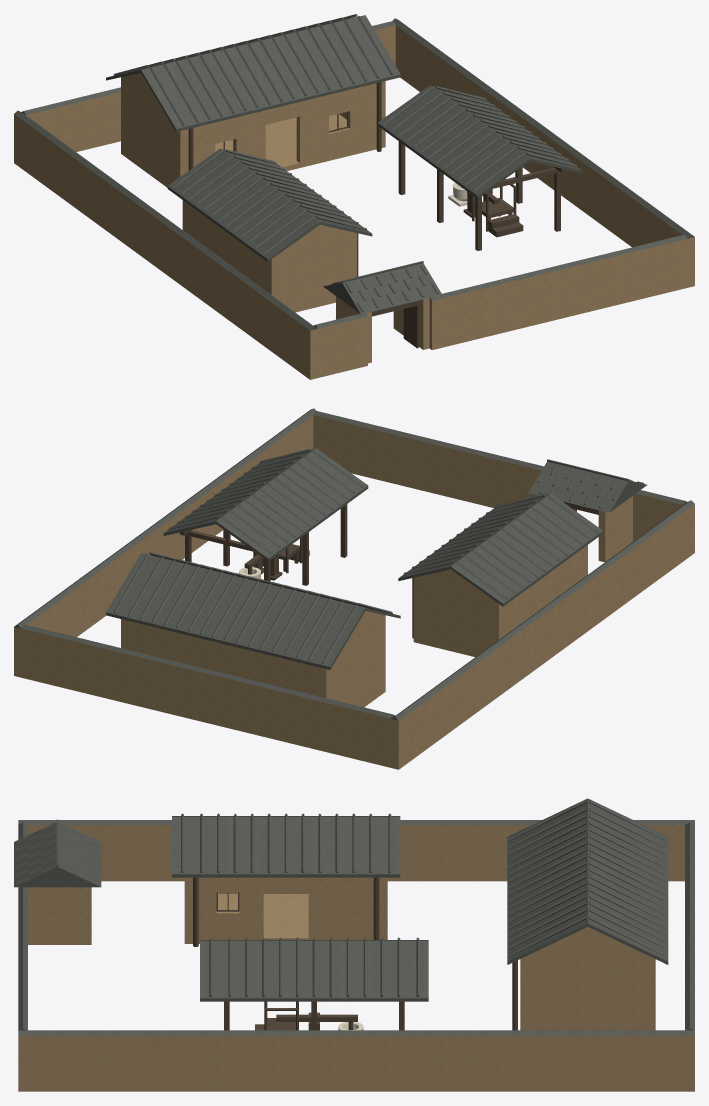
Rendered from workyard-LOD1.glb.
3 renders of one model, top to bottom at view 1: azimuth 30°, elevation 25°; view 2: azimuth 150°, elevation 25°; view 3: azimuth 270°, elevation 25°, orthographic. The views are drawn at different scales.
Parts seen in each view (by area): view 1: workyard_earth, workyard_tile, workyard_timber; view 2: workyard_earth, workyard_tile, workyard_timber; view 3: workyard_earth, workyard_tile, workyard_timber, pestle__pestle_timber_moving.
Part boxes in pixels (x1,y1,x2,y2): workyard_earth: [14, 25, 694, 379]; workyard_tile: [14, 14, 694, 330]; workyard_timber: [188, 82, 566, 348]; workyard_earth: [14, 415, 694, 769]; workyard_tile: [14, 408, 694, 720]; workyard_timber: [179, 501, 598, 638]; workyard_earth: [18, 825, 694, 1091]; workyard_tile: [14, 798, 694, 1035]; workyard_timber: [193, 877, 517, 1030]; pestle__pestle_timber_moving: [276, 1014, 357, 1029].
Bounding box in the file's own units: 18 × 4.93 × 24.15.
Materials: 4 (3 with a texture image).
